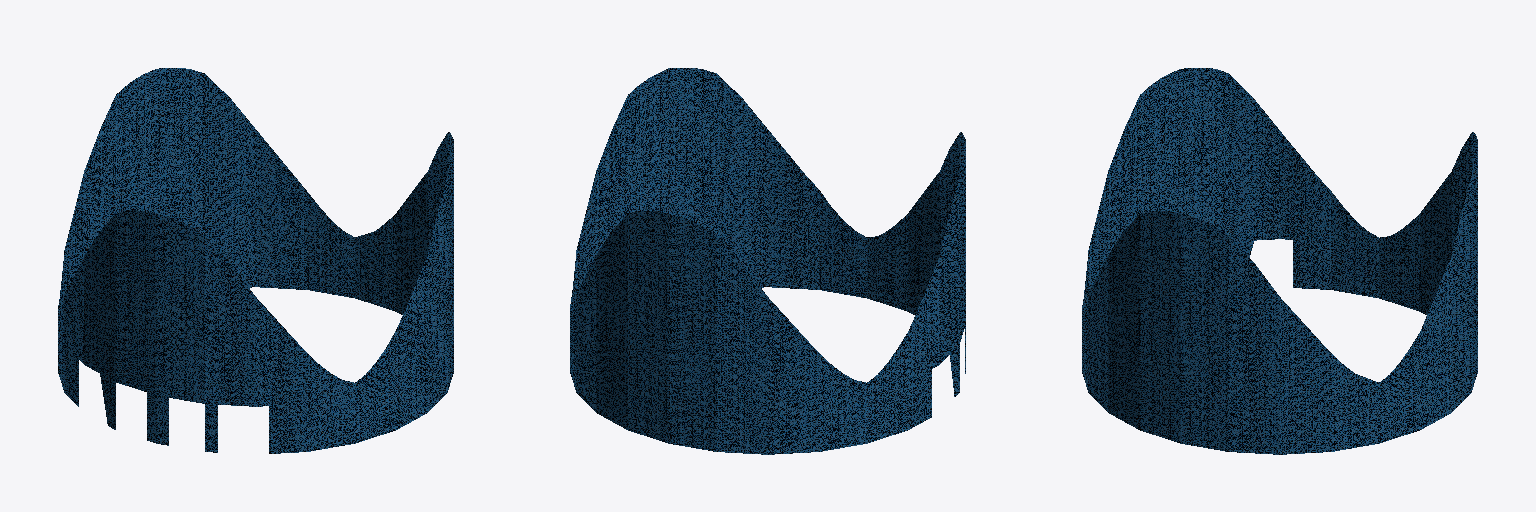
3 renders of one model, left to right at view 1: azimuth 30°, elevation 25°; view 2: azimuth 150°, elevation 25°; view 3: azimuth 270°, elevation 25°, orthographic.
Parts seen in each view (by area): view 1: VidrioEspecular:Mesh1Model; view 2: VidrioEspecular:Mesh1Model; view 3: VidrioEspecular:Mesh1Model.
Part boxes in pixels (bbox=[...]): VidrioEspecular:Mesh1Model: bbox=[58, 68, 453, 453]; VidrioEspecular:Mesh1Model: bbox=[570, 68, 965, 454]; VidrioEspecular:Mesh1Model: bbox=[1082, 68, 1477, 454].
Size of the model in its own units: 22.45 by 14.37 by 22.45.
Materials: 1 (1 with a texture image).